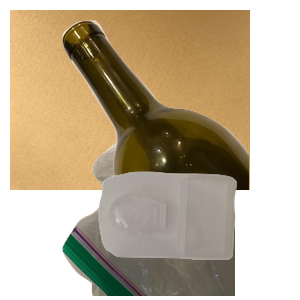cardboard: (10, 10, 250, 190)
glass: (60, 18, 300, 198)
plastic: (96, 169, 300, 300)
trash: (60, 120, 300, 300)
